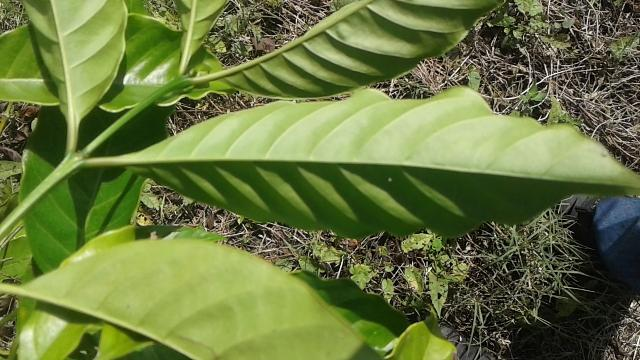healthy: (124, 82, 640, 243)
